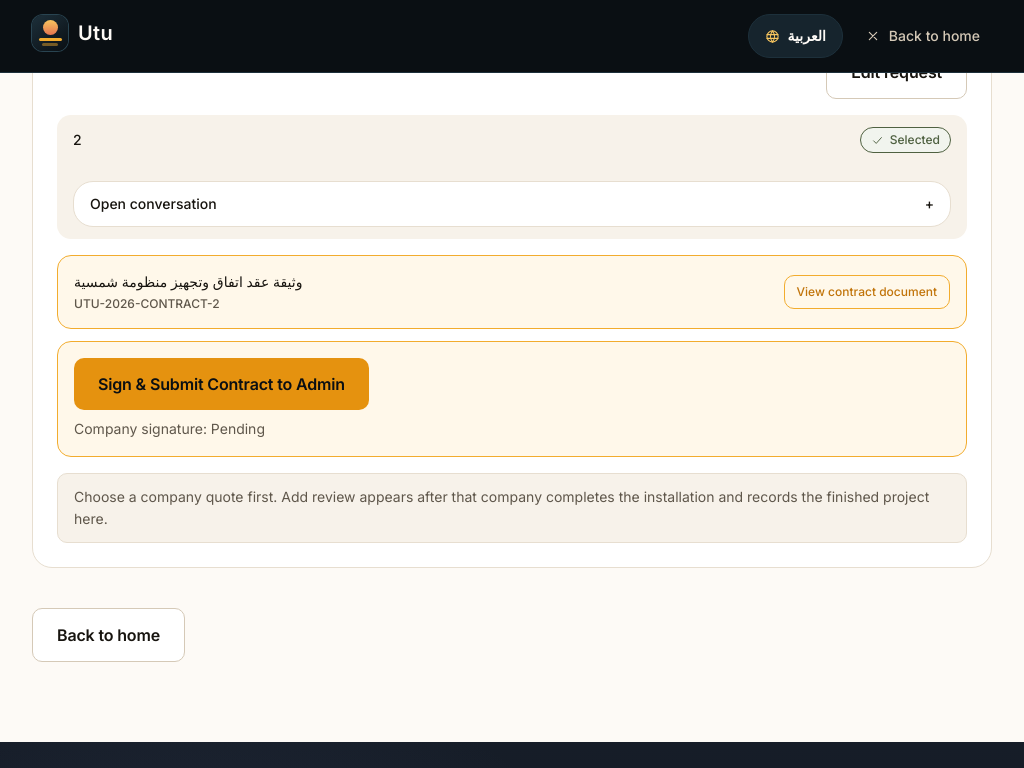
Scenario: MyRequestsPage review eligibility › MyRequestsPage contract approval › lets a customer sign the deposited contract and submit it for admin work approval
(page scrolled)
Click the button "Sign & Submit Contract to Admin".
click(222, 384)  # box [74,358,369,410]
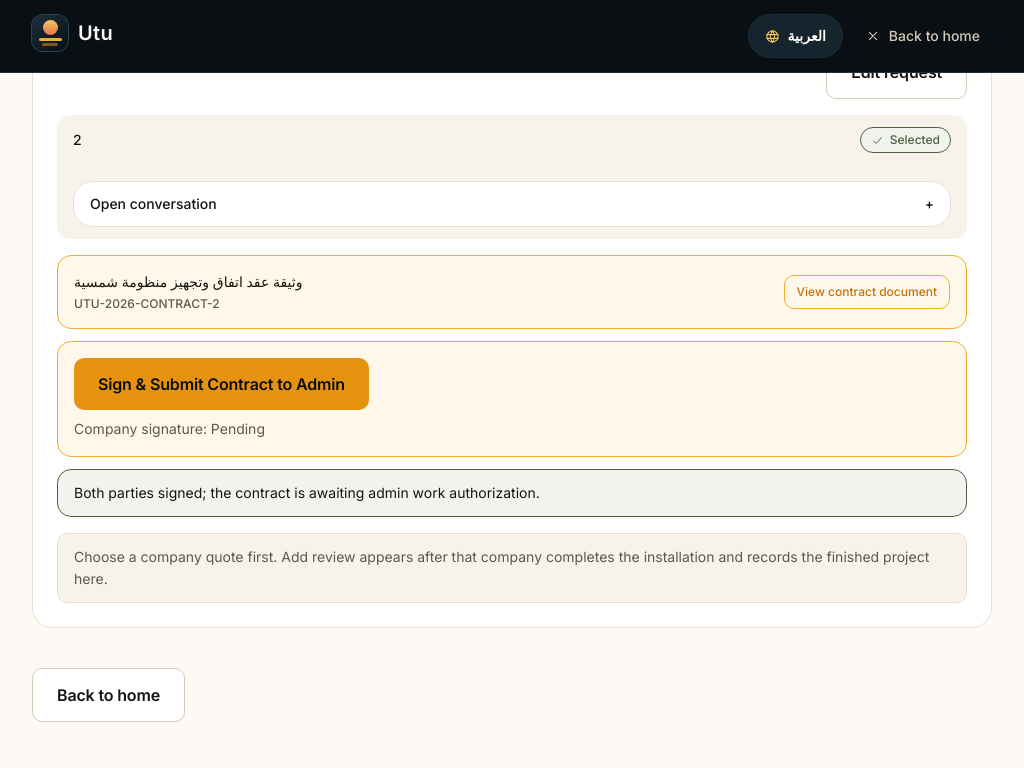
expect the text "Both parties signed; the contract is awaiting admin work authorization." is shown: met, box [57,469,967,517]
